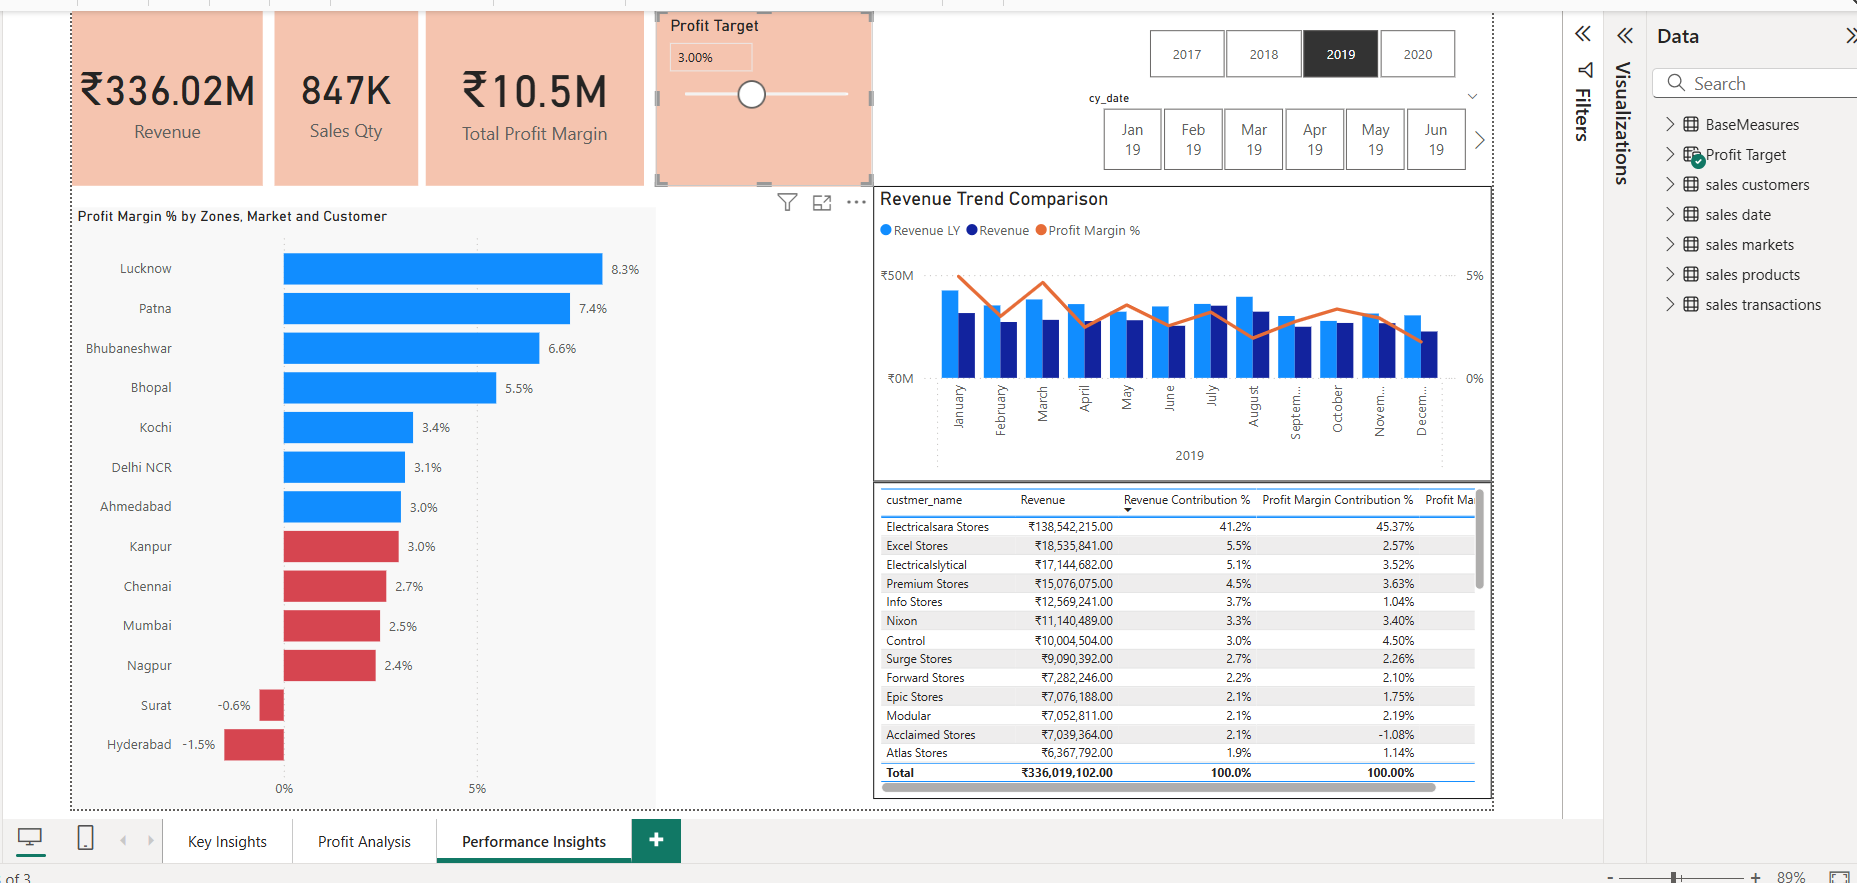

The dashboard page shown, as its layout file describes it:
{"tool":"powerbi","page":{"name":"Performance Insights","canvas":[1280,720],"ordinal":2},"visuals":[{"type":"card","fields":{"Values":["BaseMeasures.Revenue"]},"box":[0,0,172.2,157.6],"z":0},{"type":"card","fields":{"Values":["BaseMeasures.Sales Qty"]},"box":[183.1,0,129.4,157.6],"z":1000},{"type":"slicer","fields":{"Values":["sales date.year"]},"box":[945.4,9.7,325.8,56.4],"z":4000},{"type":"slicer","fields":{"Values":["sales date.cy_date"]},"box":[903.6,66.1,376.4,83.6],"z":5000},{"type":"tableEx","title":"Revenue for Top Five Customers","fields":{"Values":["sales customers.custmer_name","BaseMeasures.Revenue","BaseMeasures.Revenue Contribution %","BaseMeasures.Profit Margin Contribution %","BaseMeasures.Profit Margin %"]},"box":[722.7,425,557.3,286],"z":6000},{"type":"lineClusteredColumnComboChart","title":"Revenue Trend Comparison","fields":{"Category":["sales date.cy_date.Variation.Date Hierarchy.Year","sales date.cy_date.Variation.Date Hierarchy.Month"],"Y":["BaseMeasures.Revenue LY","BaseMeasures.Revenue"],"Y2":["BaseMeasures.Profit Margin %"]},"box":[722.2,158.2,557.8,266.4],"z":7000},{"type":"card","fields":{"Values":["BaseMeasures.Total Profit Margin"]},"box":[318.9,0,196.8,157.6],"z":8000},{"type":"barChart","title":"Profit Margin % by Zones, Market and Customer","fields":{"Y":["BaseMeasures.Profit Margin %"],"Category":["sales markets.zone","sales markets.markets_name","sales customers.custmer_name"]},"box":[0,177,526.2,542.7],"z":9000},{"type":"slicer","fields":{"Values":["Profit Target.Profit Target"]},"box":[526.6,0,194.6,158.2],"z":9001}]}

Visuals, with their boxes on the page's 1280x720 design canvas (x1, y1, x2, y2). These are canvas units, not pixel positions in the 1857x883 screenshot, which may show the page scaled, cropped or inside an application window:
card - BaseMeasures.Revenue: 0 0 172 158
card - BaseMeasures.Sales Qty: 183 0 312 158
slicer - sales date.year: 945 10 1271 66
slicer - sales date.cy_date: 904 66 1280 150
"Revenue for Top Five Customers" tableEx: 723 425 1280 711
"Revenue Trend Comparison" lineClusteredColumnComboChart: 722 158 1280 425
card - BaseMeasures.Total Profit Margin: 319 0 516 158
"Profit Margin % by Zones, Market and Customer" barChart: 0 177 526 720
slicer - Profit Target.Profit Target: 527 0 721 158
